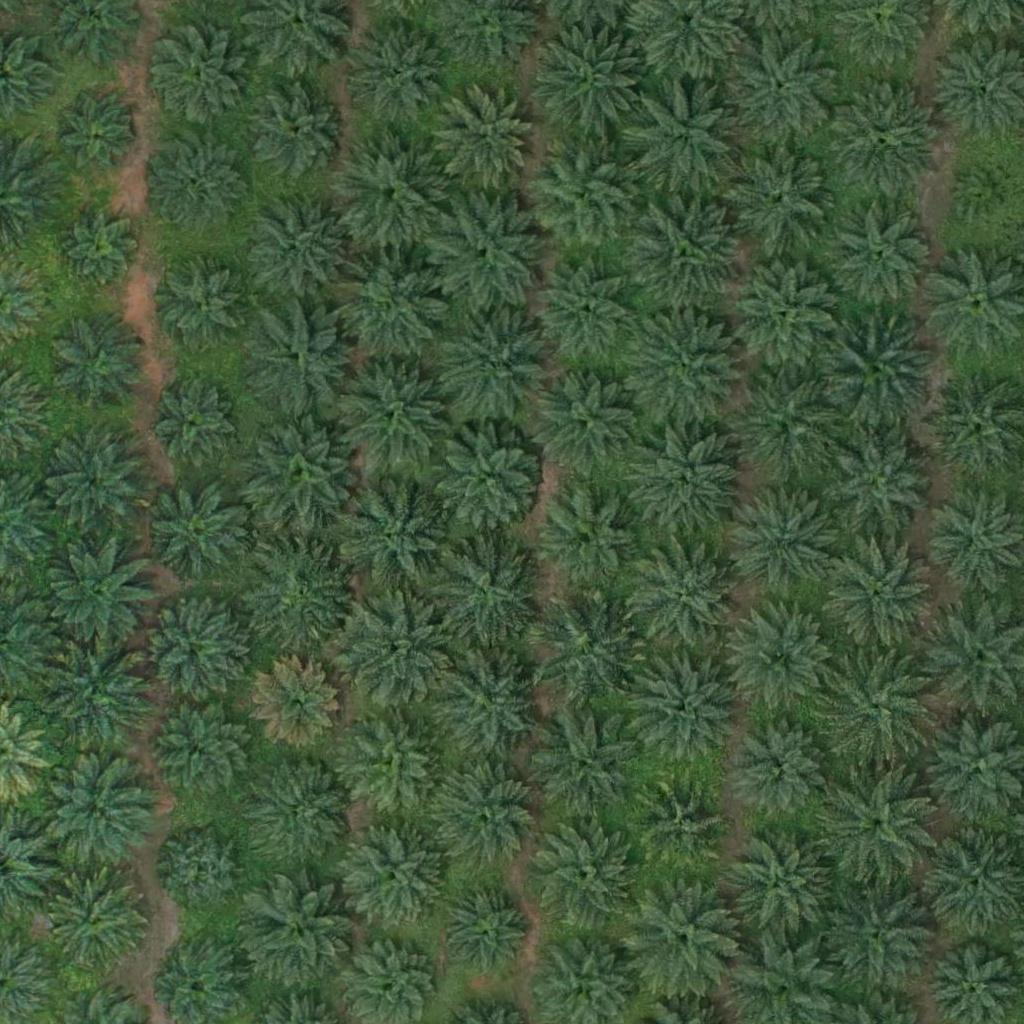Kelapa_Sawit: (42, 536, 155, 650), (525, 137, 638, 251), (630, 195, 743, 309), (630, 313, 743, 427), (729, 369, 842, 483), (730, 484, 843, 598), (39, 759, 152, 873), (629, 76, 742, 189), (531, 25, 644, 138), (238, 77, 351, 190), (239, 190, 352, 303), (245, 303, 358, 416), (245, 417, 358, 530), (335, 358, 448, 471), (337, 484, 450, 597), (340, 594, 453, 707), (626, 426, 739, 539), (633, 544, 746, 657), (726, 603, 839, 716), (821, 770, 934, 883), (820, 875, 933, 988), (723, 824, 836, 937), (432, 647, 545, 760), (40, 634, 153, 747), (731, 259, 843, 373), (823, 424, 935, 538), (822, 541, 934, 655), (828, 85, 940, 198), (731, 32, 843, 145), (246, 539, 358, 652), (331, 136, 443, 249), (334, 252, 446, 365), (433, 196, 545, 309), (439, 308, 551, 421), (433, 420, 545, 533), (428, 533, 540, 646), (532, 363, 644, 476), (529, 593, 641, 706), (725, 141, 837, 254), (823, 317, 935, 430), (817, 650, 929, 763), (627, 880, 739, 993), (526, 819, 638, 932), (626, 647, 738, 760), (530, 706, 642, 819), (248, 882, 360, 995), (437, 85, 537, 186), (350, 23, 450, 124), (50, 309, 150, 410), (45, 434, 145, 535), (151, 259, 251, 360), (144, 482, 244, 583), (541, 486, 641, 587), (833, 206, 933, 307), (434, 761, 534, 862), (345, 712, 445, 813), (152, 698, 252, 799), (254, 758, 354, 859), (148, 29, 248, 129), (148, 133, 248, 233), (144, 598, 244, 698), (536, 264, 636, 364), (344, 824, 444, 924), (46, 874, 146, 974), (637, 781, 725, 870), (58, 202, 146, 290), (148, 378, 236, 466), (252, 659, 340, 747), (439, 885, 526, 973), (738, 724, 825, 812), (160, 826, 247, 914), (58, 97, 133, 173), (959, 163, 1021, 226)
